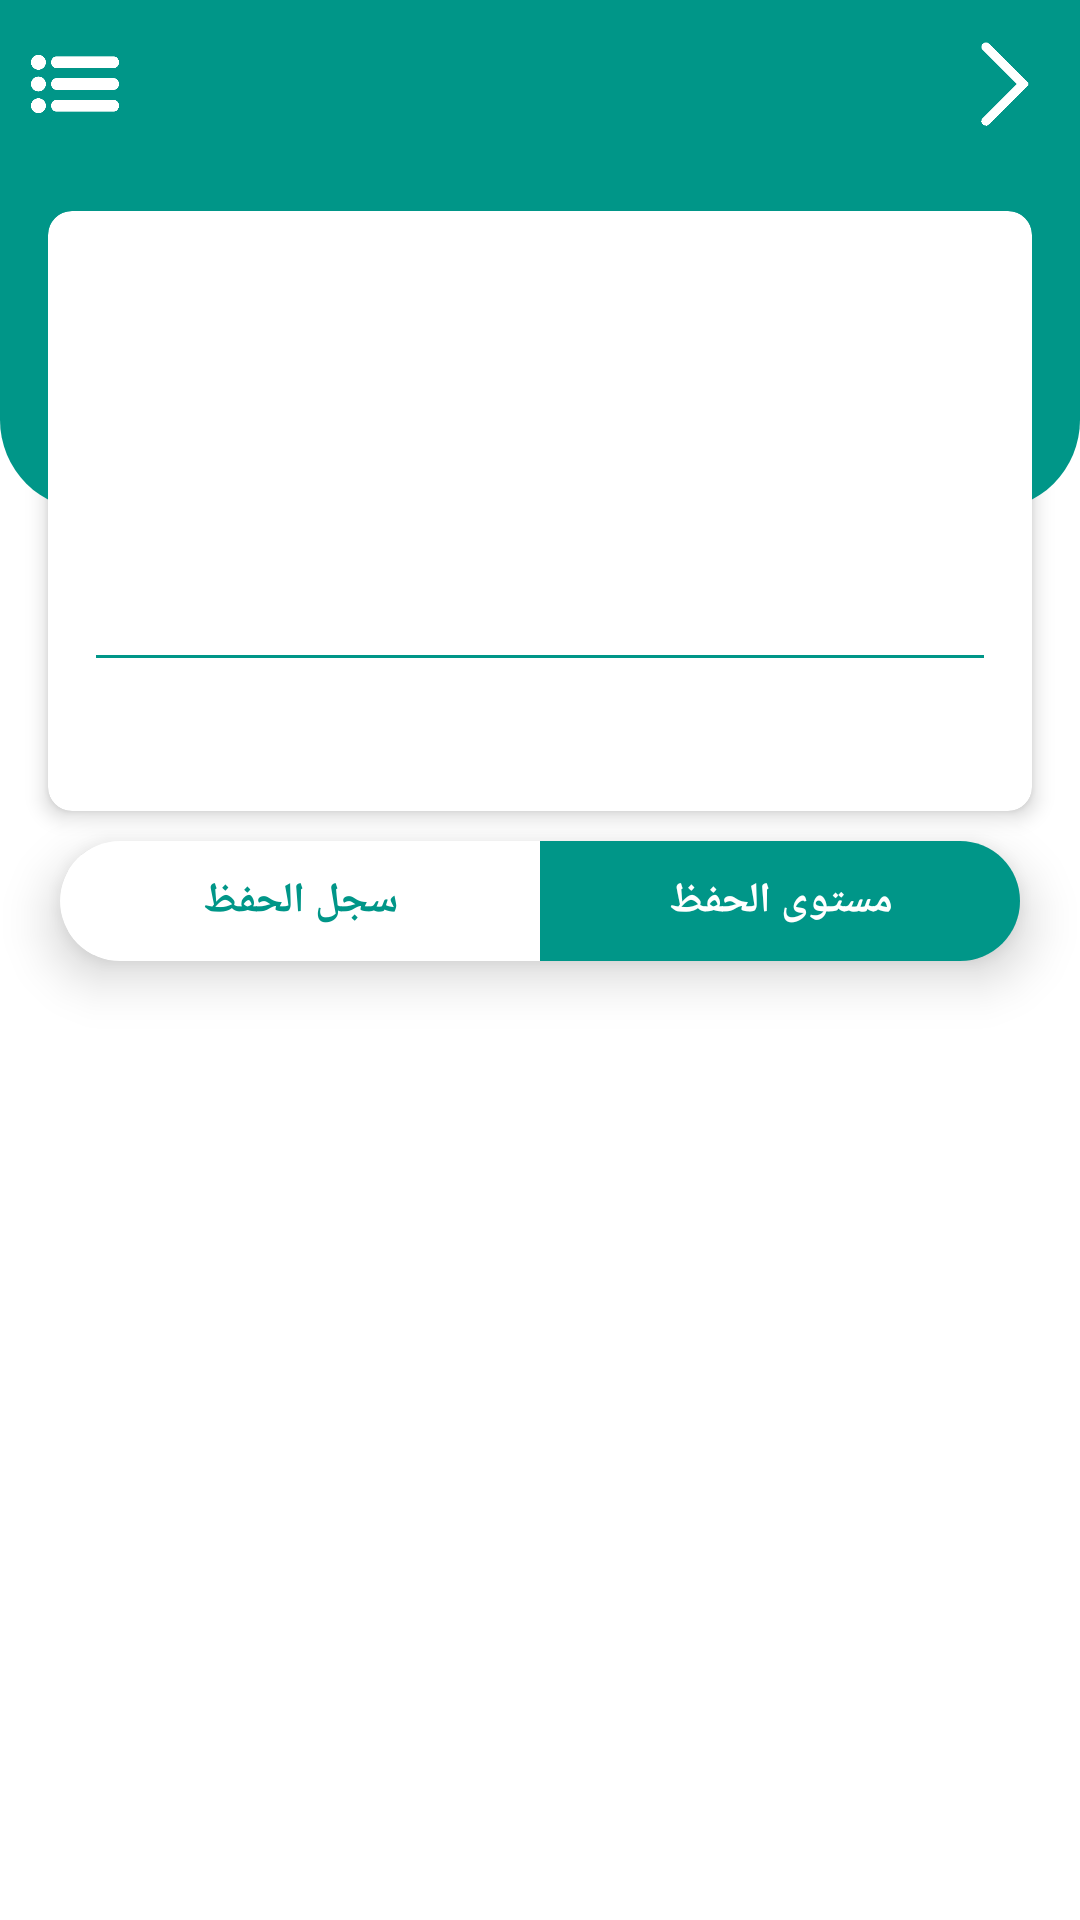

Where icons sit on this 1080x1920 app screen, as [x1=x1, y1=y1, x2=x2, y2=y2]:
iconmenu: [x1=31, y1=55, x2=119, y2=113]
